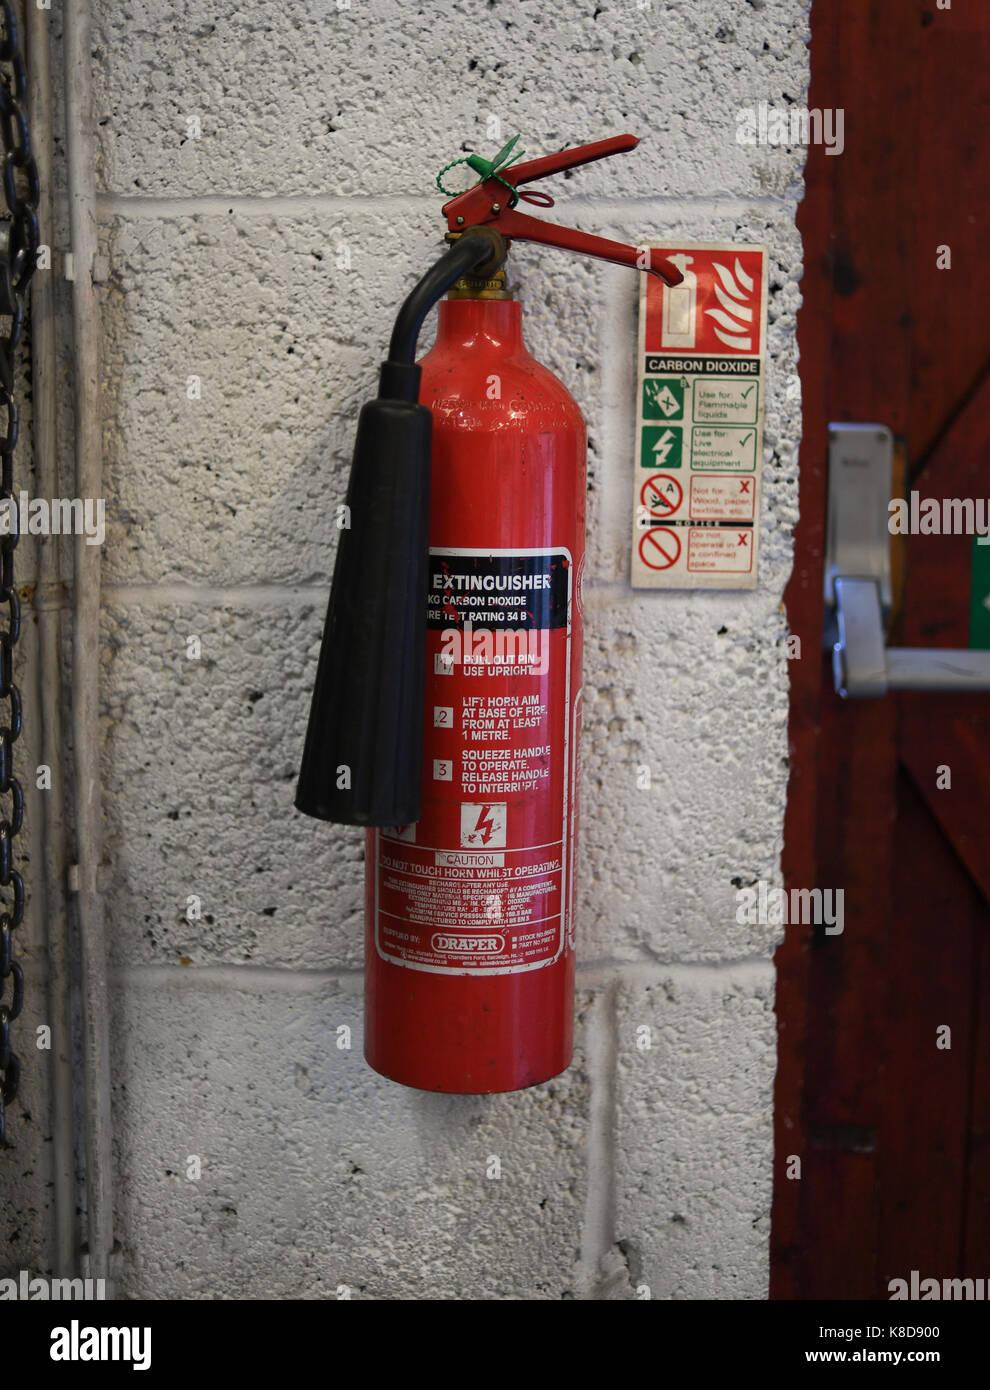wall-mounted: (226, 102, 674, 1114)
